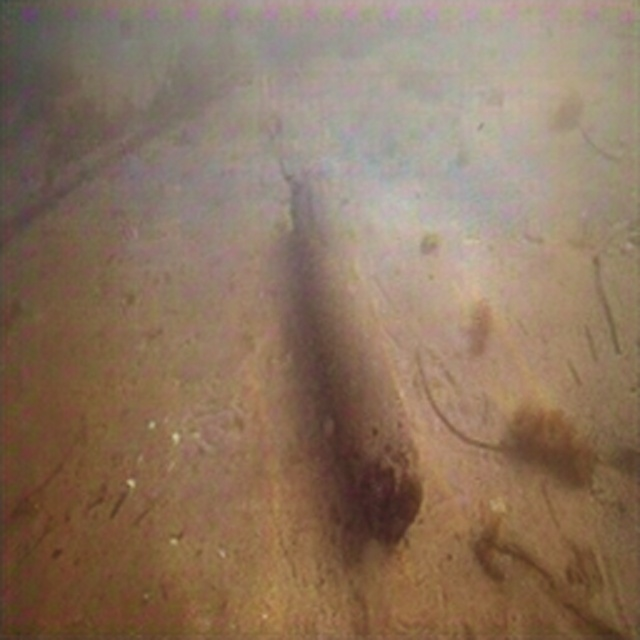mine: (289, 169, 423, 539)
